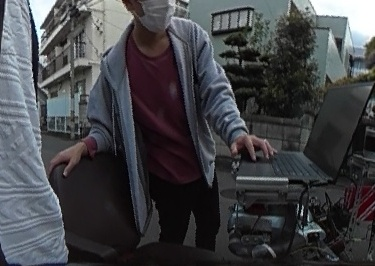person: (63, 0, 266, 264)
